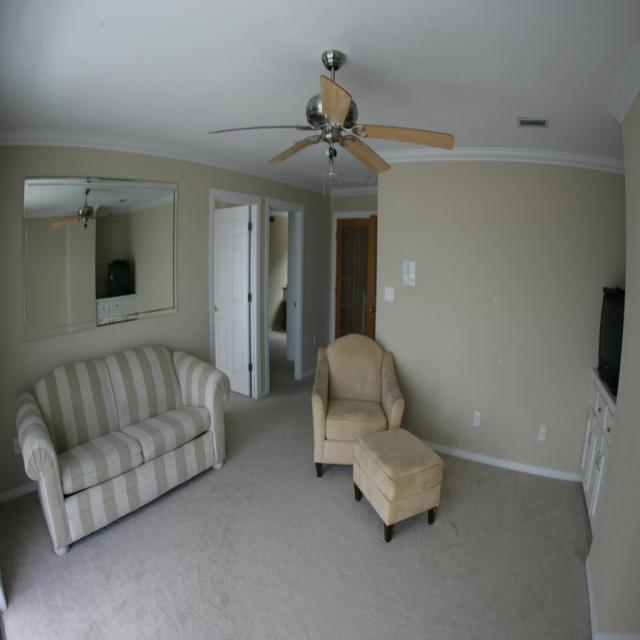Bulb: (208, 49, 454, 213)
